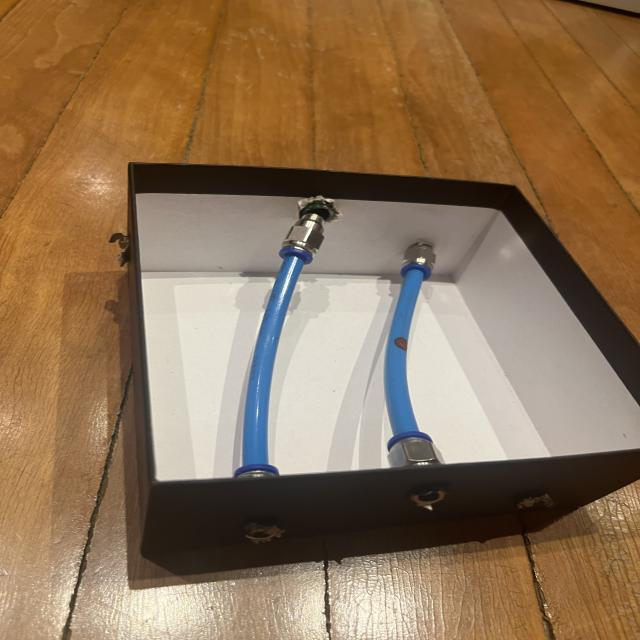hose_damage: (391, 336, 410, 353)
